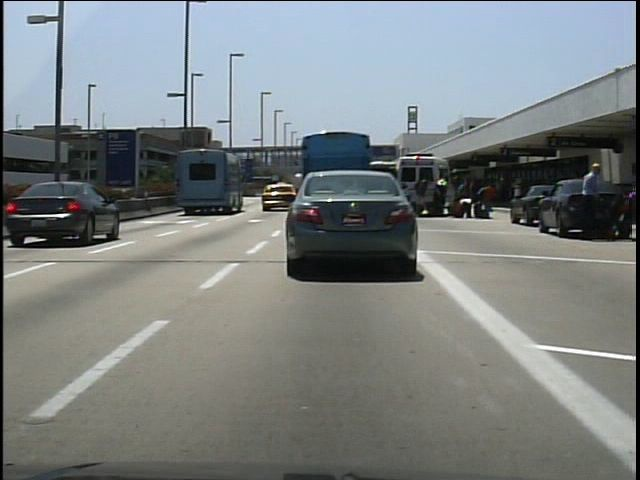person: (576, 158, 609, 243), (430, 174, 450, 221), (413, 173, 432, 220), (455, 176, 475, 220), (478, 180, 496, 222)
